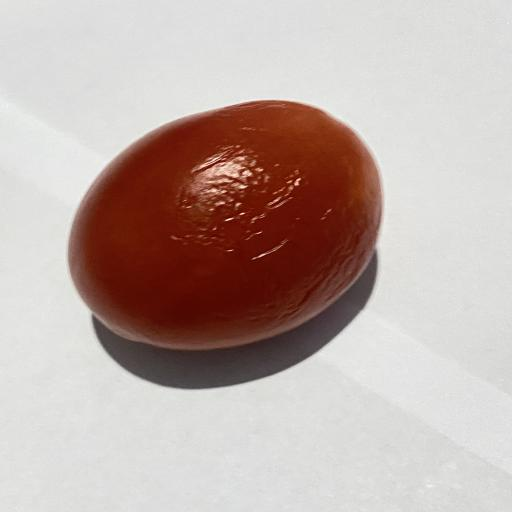spoiled: (69, 101, 382, 350)
